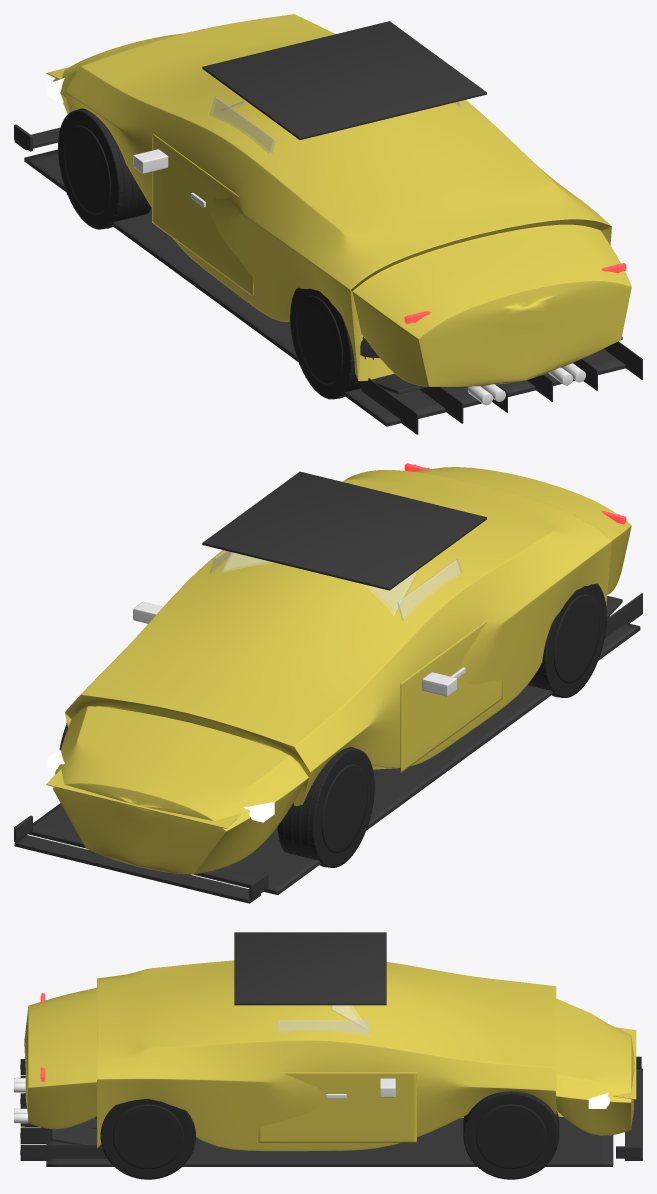
The model's file is Car_BMW_M4_F82_2010s_Complete.glb.
The picture shows the model from 3 angles, top to bottom: view 1: azimuth 30°, elevation 25°; view 2: azimuth 150°, elevation 25°; view 3: azimuth 270°, elevation 25°; orthographic projection. The views are drawn at different scales.
Visible parts, largest first — view 1: BODY_MainShell, BODY_M4_CarbonRoof, UNDERBODY_FlatFloor, WHEEL_FL_Tire, BODY_Door_FL, WHEEL_RL_Tire, GLASS_Greenhouse, JEWELRY_M4_QuadExhaust, JEWELRY_Hardware, AERO_FrontSplitter; view 2: BODY_MainShell, BODY_M4_CarbonRoof, UNDERBODY_FlatFloor, WHEEL_FL_Tire, BODY_Door_FL, WHEEL_RL_Tire, AERO_FrontSplitter, GLASS_Greenhouse, JEWELRY_Hardware, BODY_Hood, LIGHTING_Headlamps; view 3: BODY_MainShell, UNDERBODY_FlatFloor, BODY_M4_CarbonRoof, BODY_Door_FR, WHEEL_FR_Tire, WHEEL_RR_Tire, GLASS_Greenhouse, AERO_FrontSplitter, BODY_Hood, JEWELRY_Hardware, JEWELRY_M4_QuadExhaust.
Part boxes in pixels (bbox=[...]): BODY_MainShell: bbox=[53, 14, 631, 386]; BODY_M4_CarbonRoof: bbox=[202, 21, 486, 139]; UNDERBODY_FlatFloor: bbox=[24, 149, 642, 434]; WHEEL_FL_Tire: bbox=[57, 108, 151, 229]; BODY_Door_FL: bbox=[152, 133, 253, 296]; WHEEL_RL_Tire: bbox=[290, 286, 381, 399]; GLASS_Greenhouse: bbox=[209, 96, 461, 154]; JEWELRY_M4_QuadExhaust: bbox=[467, 363, 585, 405]; JEWELRY_Hardware: bbox=[133, 149, 205, 207]; AERO_FrontSplitter: bbox=[14, 124, 60, 151]; BODY_MainShell: bbox=[53, 467, 631, 874]; BODY_M4_CarbonRoof: bbox=[202, 471, 486, 590]; UNDERBODY_FlatFloor: bbox=[28, 593, 642, 894]; WHEEL_FL_Tire: bbox=[277, 747, 374, 867]; BODY_Door_FL: bbox=[400, 619, 502, 772]; WHEEL_RL_Tire: bbox=[528, 583, 606, 697]; AERO_FrontSplitter: bbox=[14, 815, 268, 903]; GLASS_Greenhouse: bbox=[209, 550, 461, 620]; JEWELRY_Hardware: bbox=[133, 601, 465, 696]; BODY_Hood: bbox=[46, 769, 241, 828]; LIGHTING_Headlamps: bbox=[47, 750, 274, 822]; BODY_MainShell: bbox=[24, 960, 635, 1151]; UNDERBODY_FlatFloor: bbox=[20, 1059, 613, 1166]; BODY_M4_CarbonRoof: bbox=[234, 932, 386, 1005]; BODY_Door_FR: bbox=[258, 1072, 416, 1142]; WHEEL_FR_Tire: bbox=[463, 1091, 559, 1179]; WHEEL_RR_Tire: bbox=[100, 1099, 196, 1179]; GLASS_Greenhouse: bbox=[277, 1005, 369, 1035]; AERO_FrontSplitter: bbox=[616, 1056, 642, 1160]; BODY_Hood: bbox=[612, 1027, 636, 1099]; JEWELRY_Hardware: bbox=[326, 1078, 395, 1098]; JEWELRY_M4_QuadExhaust: bbox=[14, 1078, 28, 1123].
Size of what is drawn, in the model's own units: 2.2 by 1.4 by 4.87.
